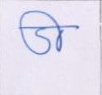o_matra: (45, 11, 64, 51)
